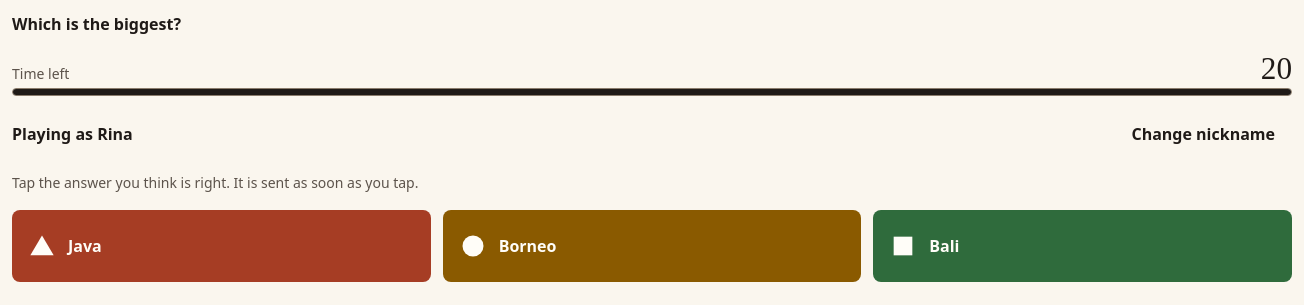
Test: treats a time-up answer from the server as closed
The width and height of the screenshot is (1304, 305).
Click the button "Java" at [85, 246], box [12,210,431,282]
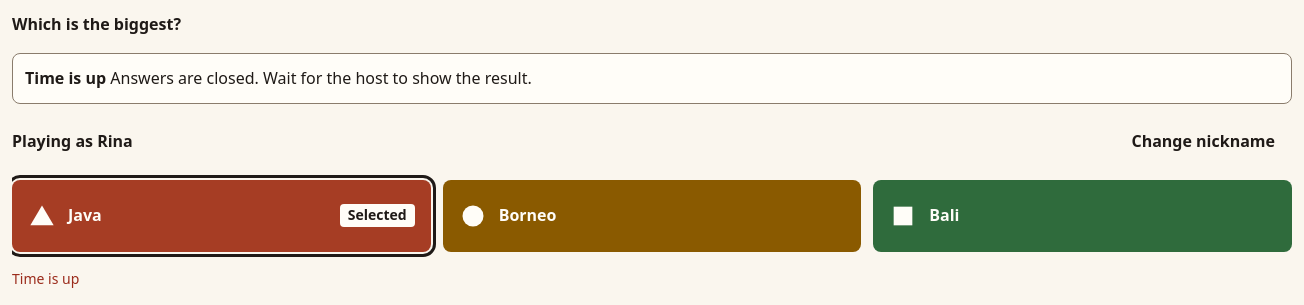
Now the text "Answers are closed. Wait for the host to show the result." is shown, box [110,67,532,89]
